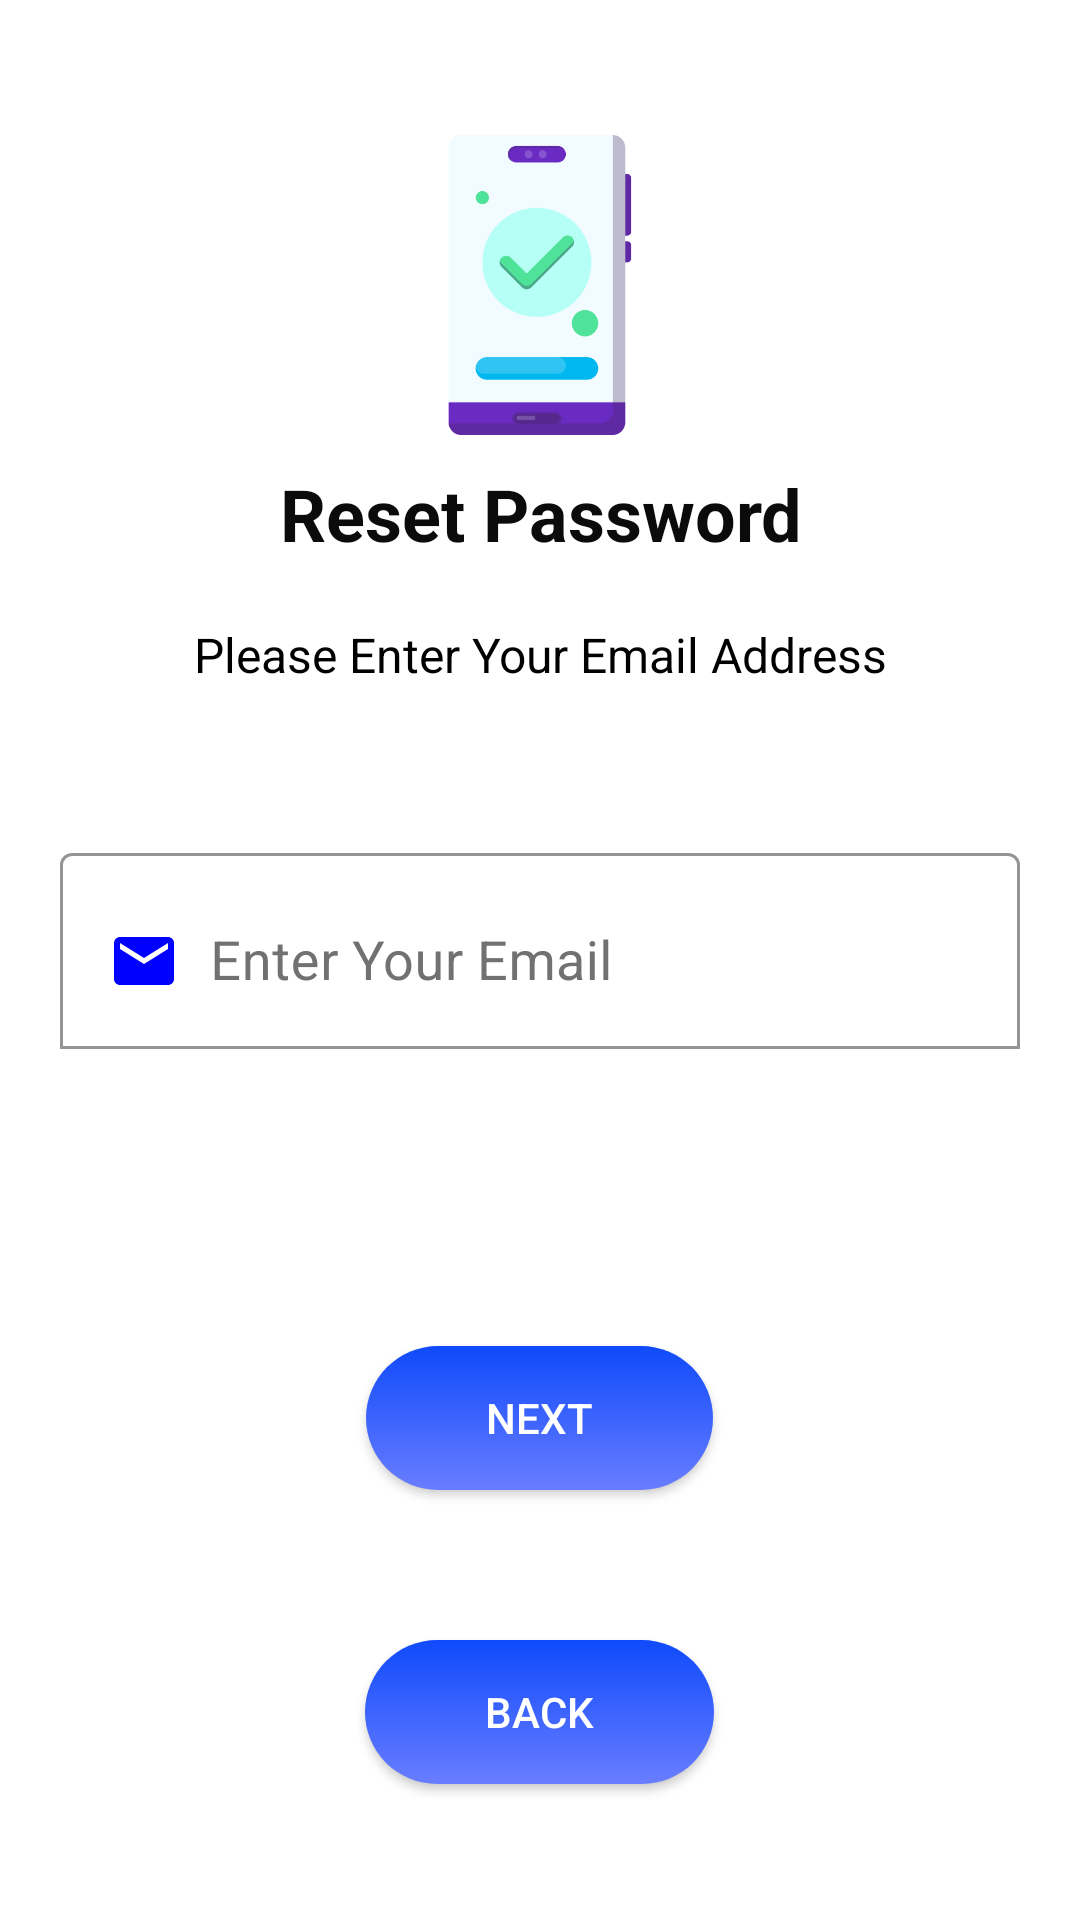

Icons on this 1080*1920 Android screen, each with the point to tap as (x=x, y=y):
verification: (x=540, y=285)
